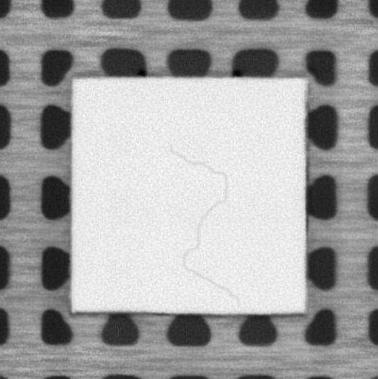DIE_CRACK: (169, 143, 241, 303)
